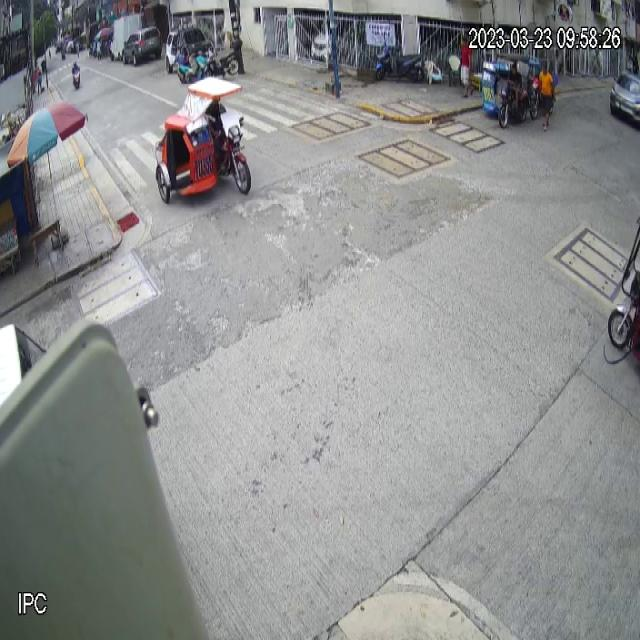Tricycle: (154, 74, 254, 204), (478, 50, 532, 130)
